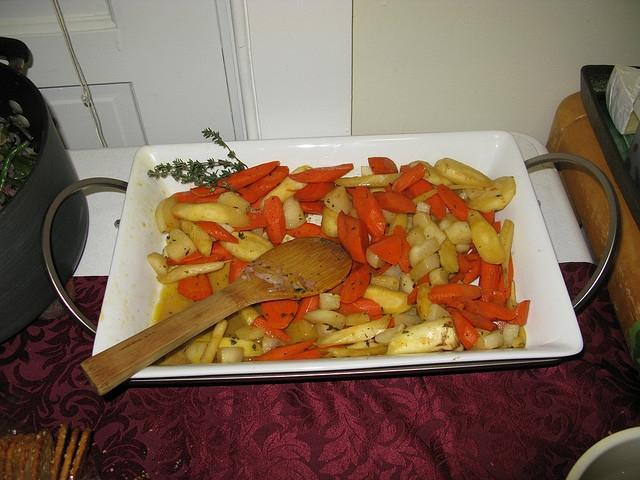carrot: (189, 161, 280, 197), (399, 165, 446, 220), (243, 338, 318, 362), (353, 186, 386, 238), (243, 166, 289, 198), (286, 163, 354, 183), (180, 218, 212, 258), (260, 298, 300, 330), (437, 184, 470, 222), (285, 223, 342, 245), (340, 264, 371, 304), (346, 215, 370, 265), (428, 284, 482, 306), (250, 316, 293, 342), (368, 234, 402, 266), (393, 162, 427, 194), (264, 196, 286, 244), (195, 220, 239, 244), (446, 296, 490, 320), (450, 312, 479, 348), (392, 225, 413, 274), (372, 191, 417, 213), (474, 300, 518, 322), (338, 296, 384, 317), (178, 274, 214, 300), (288, 344, 346, 360), (478, 258, 499, 301), (498, 250, 514, 306), (462, 309, 499, 332), (293, 182, 335, 202), (407, 274, 432, 305), (290, 295, 318, 322), (232, 212, 270, 231), (182, 252, 225, 266), (508, 300, 531, 326), (229, 256, 250, 284), (462, 257, 482, 285), (337, 212, 350, 254), (368, 156, 398, 174), (170, 190, 207, 204), (384, 184, 413, 201), (299, 200, 326, 216), (456, 251, 474, 274), (237, 188, 260, 204), (250, 194, 267, 215), (373, 262, 392, 277), (478, 210, 495, 226), (492, 221, 501, 235), (166, 257, 178, 266), (370, 315, 386, 321)
potato: (386, 316, 460, 354), (313, 314, 392, 348), (259, 165, 314, 211), (170, 202, 252, 228), (467, 209, 505, 264), (467, 176, 516, 214), (434, 158, 496, 188), (217, 230, 274, 262), (156, 261, 224, 284), (362, 284, 414, 314), (273, 320, 318, 349), (180, 218, 212, 258), (408, 160, 454, 187), (200, 319, 228, 363), (332, 173, 404, 189), (166, 228, 199, 262), (498, 219, 514, 288), (408, 236, 441, 268), (155, 197, 181, 234), (410, 252, 440, 283), (302, 309, 346, 330), (438, 231, 459, 273), (218, 337, 262, 357), (467, 328, 505, 351), (282, 194, 306, 229), (324, 186, 352, 215), (216, 192, 252, 214), (416, 282, 434, 324), (375, 322, 406, 346), (422, 219, 447, 247), (446, 220, 472, 244), (185, 342, 210, 364), (146, 252, 168, 276), (386, 212, 408, 236), (321, 207, 338, 237), (370, 274, 399, 291), (392, 312, 422, 328), (406, 224, 426, 248), (239, 305, 261, 326), (427, 304, 452, 322), (502, 322, 520, 347), (318, 292, 341, 311), (217, 347, 244, 363), (235, 326, 265, 340), (380, 262, 402, 281), (428, 268, 449, 286), (438, 213, 459, 231), (346, 311, 370, 326), (316, 323, 339, 338), (412, 212, 431, 230), (262, 335, 280, 353), (401, 272, 414, 294), (416, 201, 431, 215), (452, 189, 468, 202), (504, 298, 518, 311), (361, 166, 378, 176), (518, 326, 526, 344), (512, 336, 524, 348), (455, 244, 470, 253)
